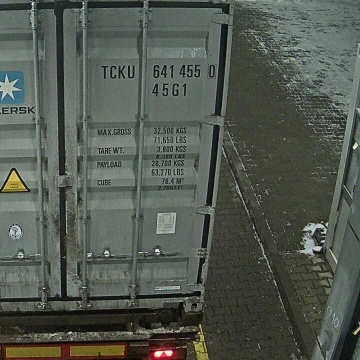serial_id: (101, 64, 215, 78)
